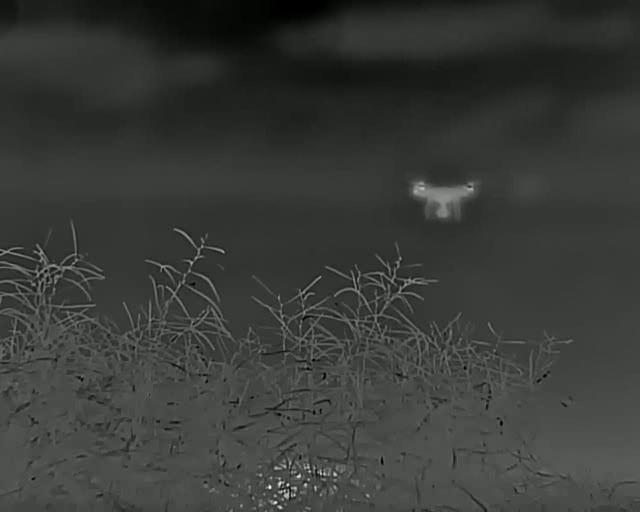DJI-Phantom: (407, 177, 482, 227)
